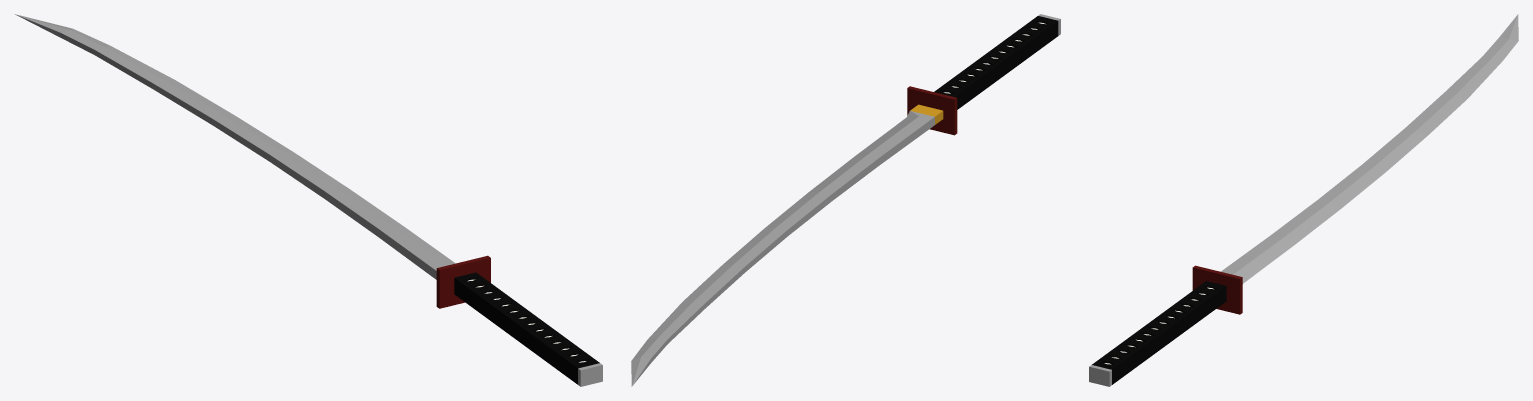
File: Odachi - Textured Low Poly Asian Weapon Pack by Kickin It Studios.fbx
3 views of the same model, side by side, from view 1: azimuth 30°, elevation 25°; view 2: azimuth 150°, elevation 25°; view 3: azimuth 330°, elevation 25° (orthographic). The views are drawn at different scales.
Parts seen in each view (by area): view 1: Odachi; view 2: Odachi; view 3: Odachi.
Boxes of the visible parts, box(x1,y1,x2,y2) form: Odachi: box(15, 14, 602, 386); Odachi: box(631, 14, 1060, 386); Odachi: box(1089, 14, 1518, 386).
Size of the model in its own units: 94.37 by 39.53 by 957.
